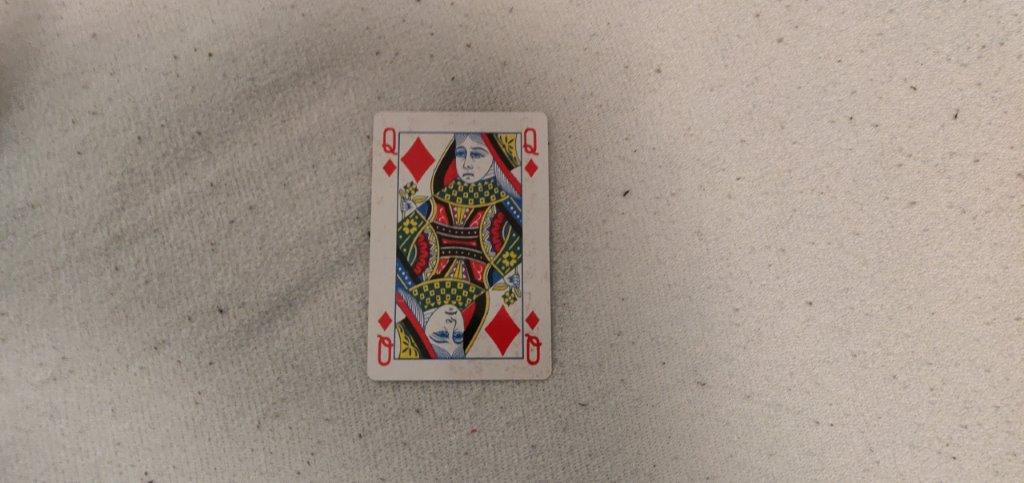QD: (378, 123, 402, 179), (520, 124, 543, 178)
